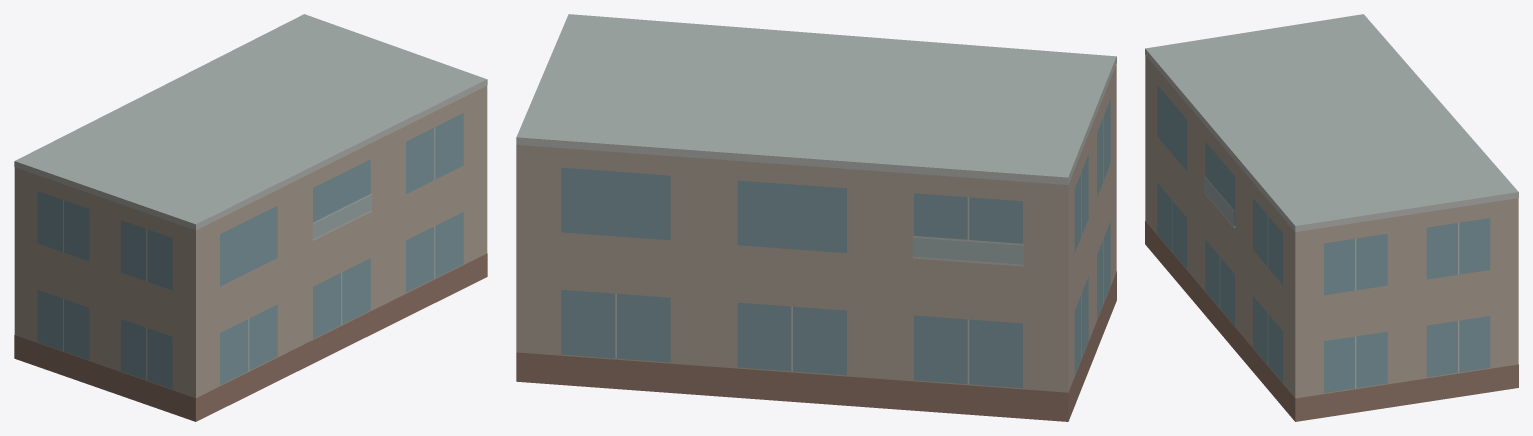
File: survey-upis-32850696.glb
The picture shows the model from 3 angles, left to right: view 1: azimuth 30°, elevation 25°; view 2: azimuth 150°, elevation 25°; view 3: azimuth 270°, elevation 25°; orthographic projection. The views are drawn at different scales.
Visible parts, largest first — view 1: survey-upis-32850696.tmp; view 2: survey-upis-32850696.tmp; view 3: survey-upis-32850696.tmp.
Part boxes in pixels (<box>): survey-upis-32850696.tmp: <box>14,14,487,421</box>; survey-upis-32850696.tmp: <box>516,14,1116,421</box>; survey-upis-32850696.tmp: <box>1145,14,1518,421</box>.
Bounding box in the file's own units: 18.48 × 7.95 × 13.76.
